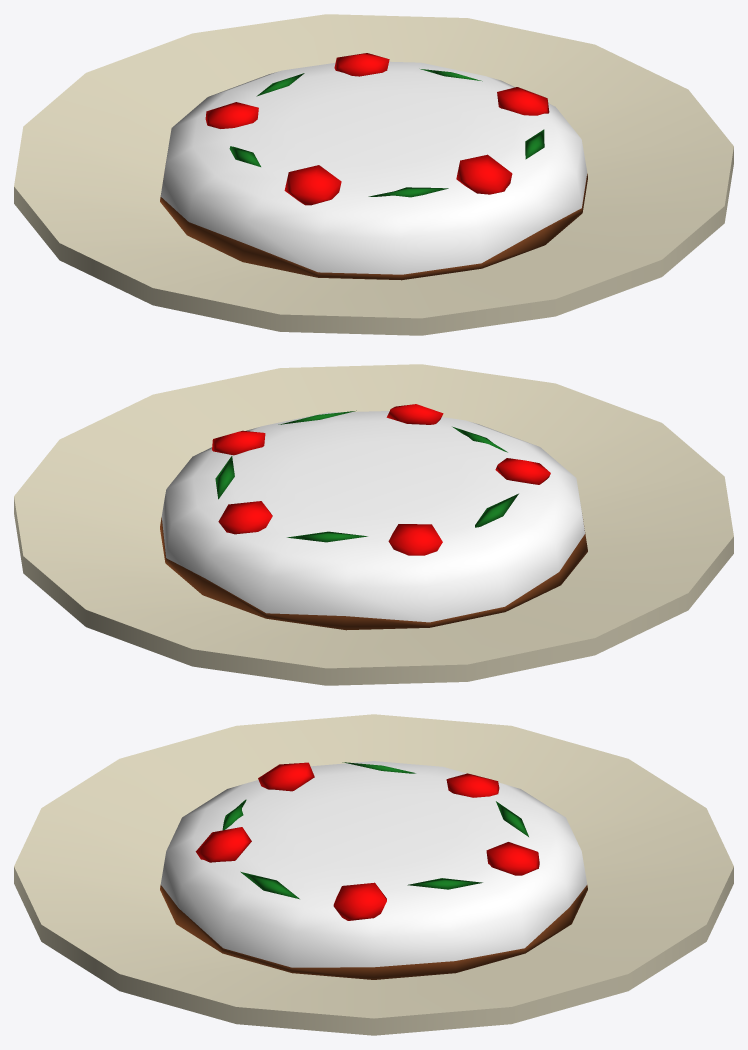
The model's file is PithiviersModel.fbx.
The picture shows the model from 3 angles, top to bottom: view 1: azimuth 30°, elevation 25°; view 2: azimuth 150°, elevation 25°; view 3: azimuth 270°, elevation 25°; orthographic projection.
Parts seen in each view (by area): view 1: Pithiviers; view 2: Pithiviers; view 3: Pithiviers.
Boxes of the visible parts, x1,y1,x2,y2 form: Pithiviers: (14, 14, 733, 335); Pithiviers: (14, 364, 733, 685); Pithiviers: (14, 714, 733, 1035).
Size of the model in its own units: 0.6488 by 0.6488 by 0.1105.
